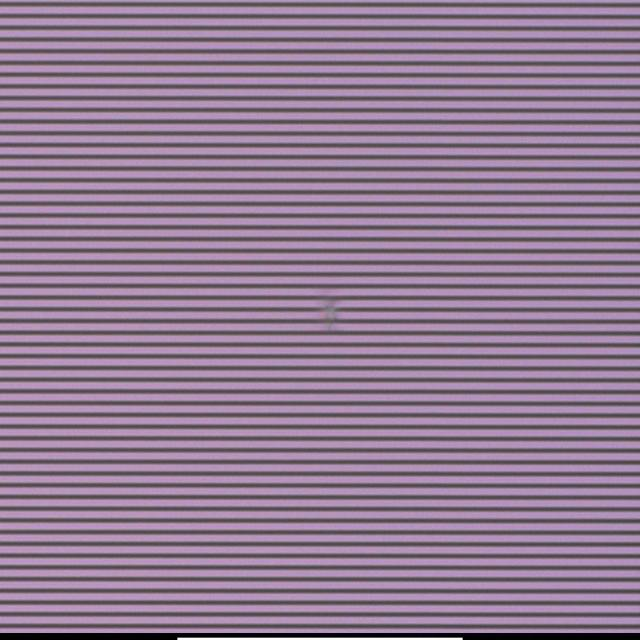nonvisual: (322, 294, 342, 332)
